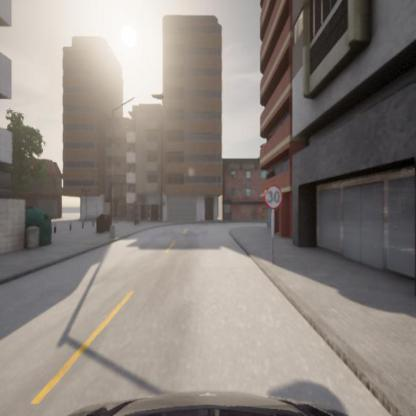traffic_sign_30: (265, 186, 282, 209)
